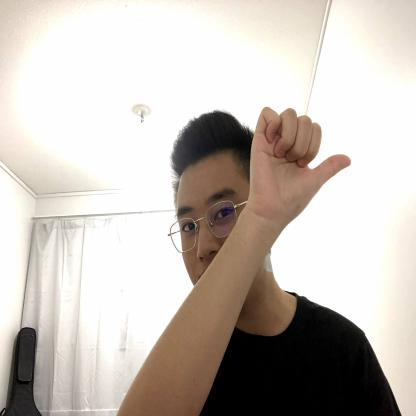left: (244, 99, 352, 219)
